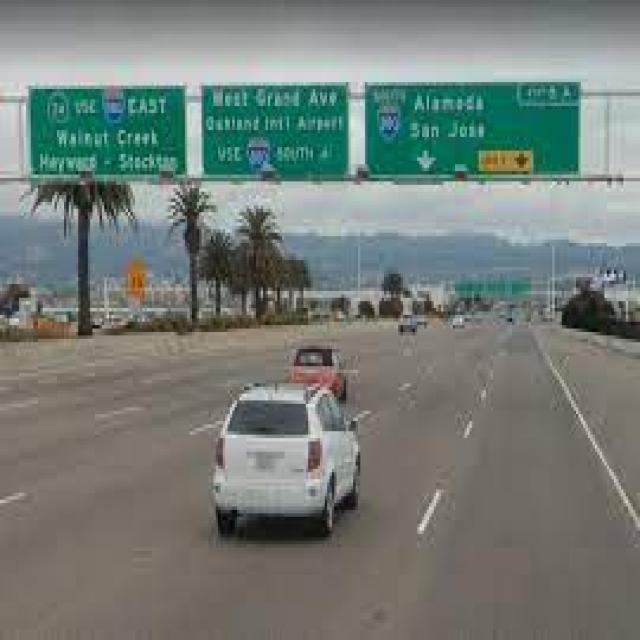street-signs: (365, 78, 584, 179), (28, 83, 188, 180), (200, 78, 350, 180)
